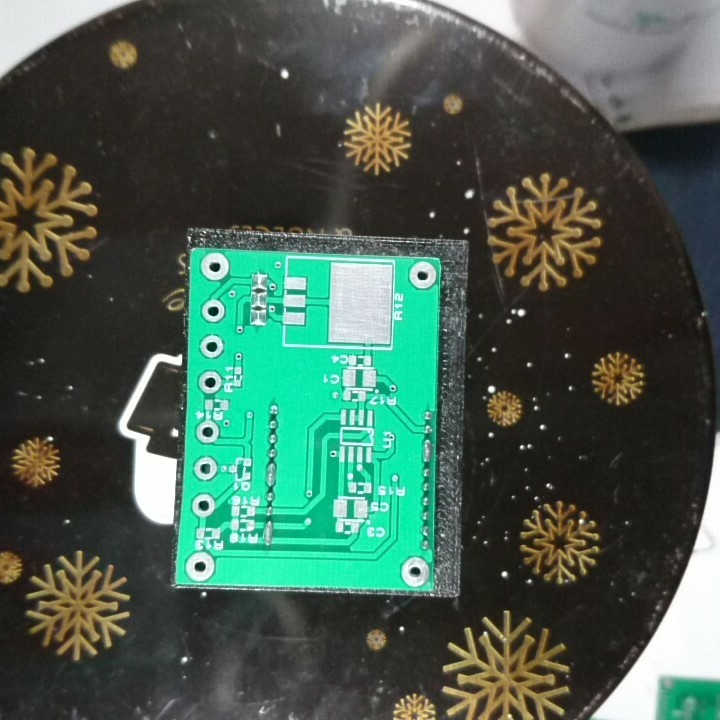F: (181, 551, 219, 585), (405, 258, 440, 292), (197, 250, 233, 283), (399, 554, 433, 588), (192, 454, 221, 484), (197, 297, 228, 324), (193, 417, 221, 446), (196, 333, 226, 360), (188, 492, 219, 518), (196, 368, 224, 395)
P: (263, 460, 279, 488), (261, 518, 275, 548), (419, 436, 434, 464)
